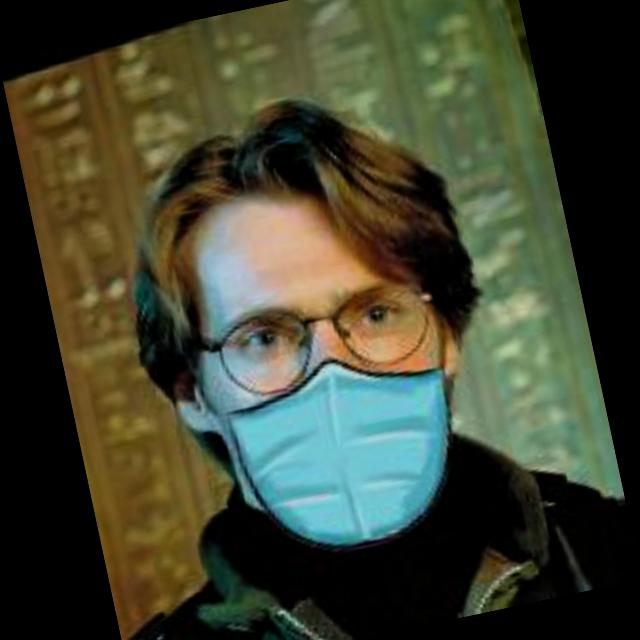suspicion: (76, 108, 501, 601)
